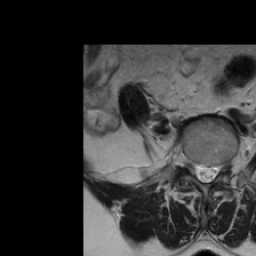CCS_normal: (202, 152, 210, 191)
LFS_normal: (219, 152, 228, 178)
LLS_normal: (210, 155, 219, 186)
RFS_normal: (187, 150, 194, 180)
RLS_normal: (194, 153, 202, 188)
